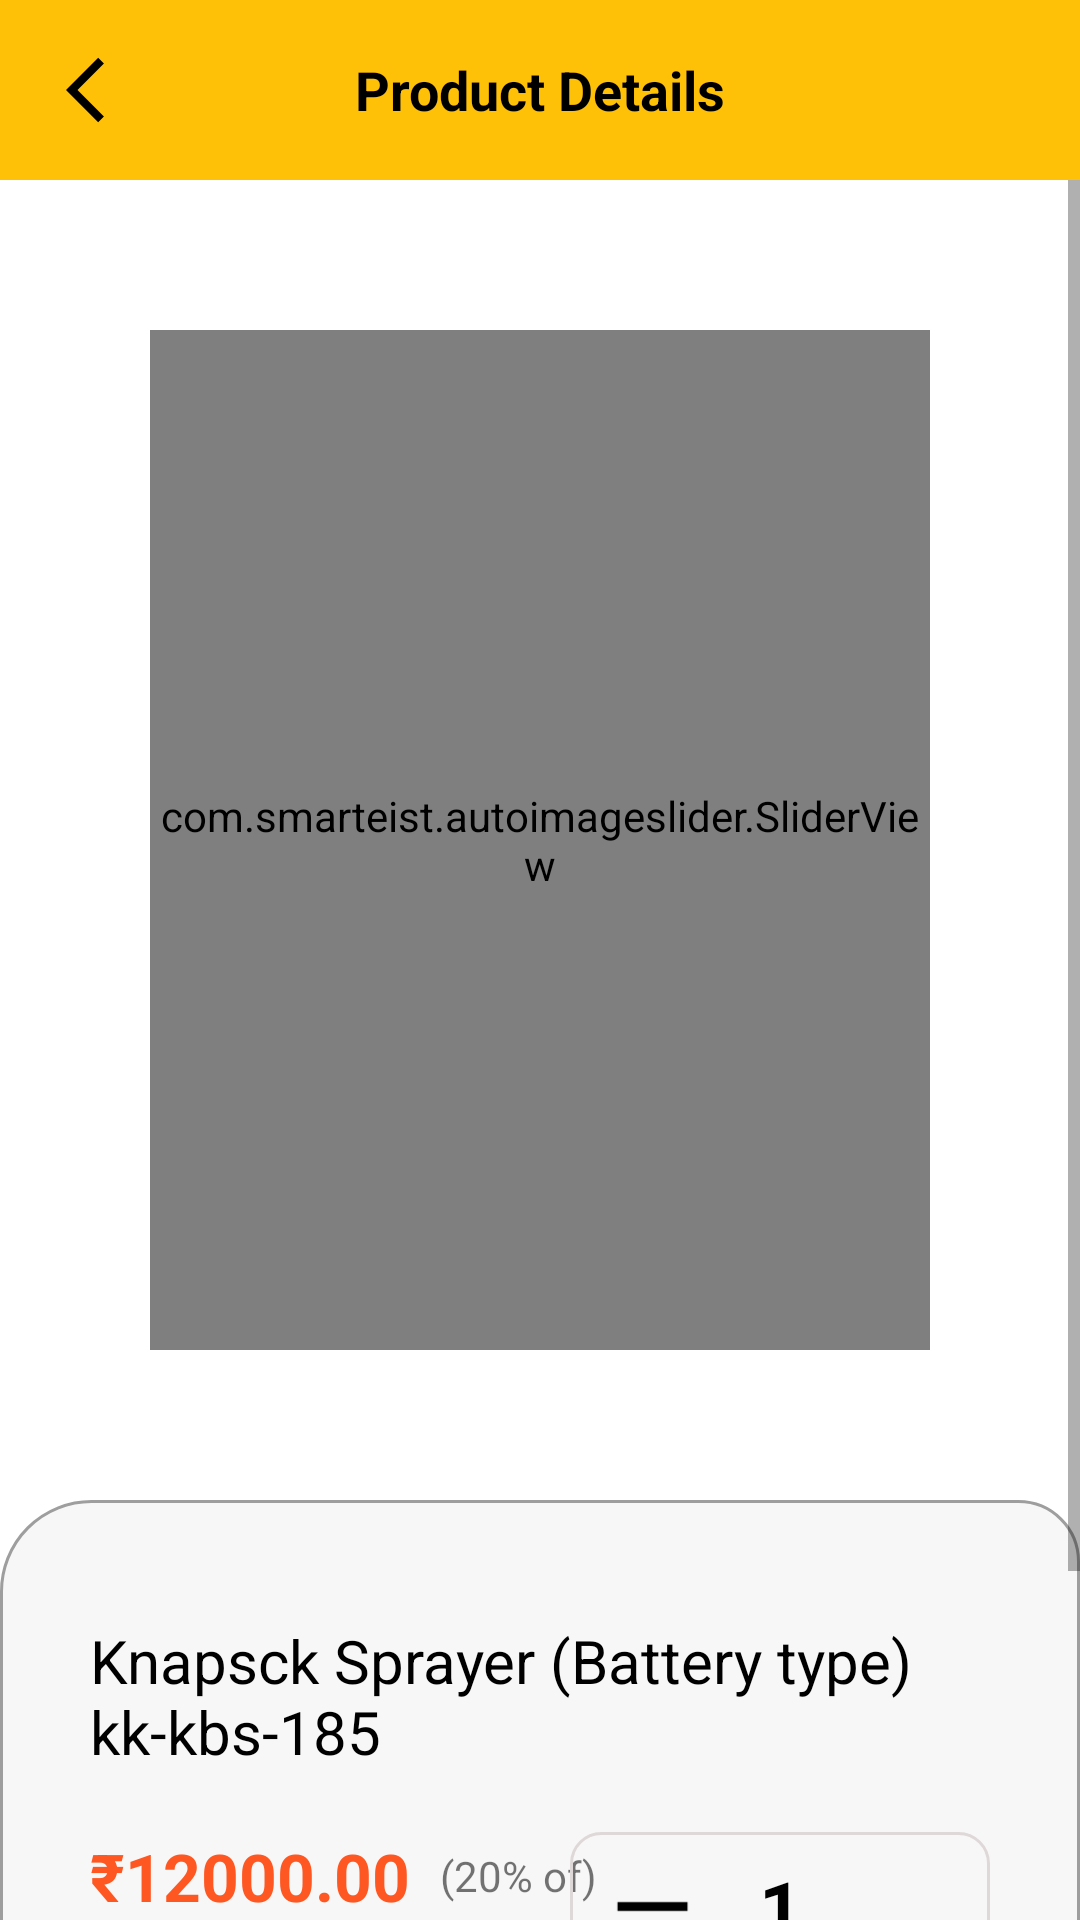

Named icons in this screenshot (1080px x 1920px) and their centers, [x,y]:
arrow back: [85,90]
